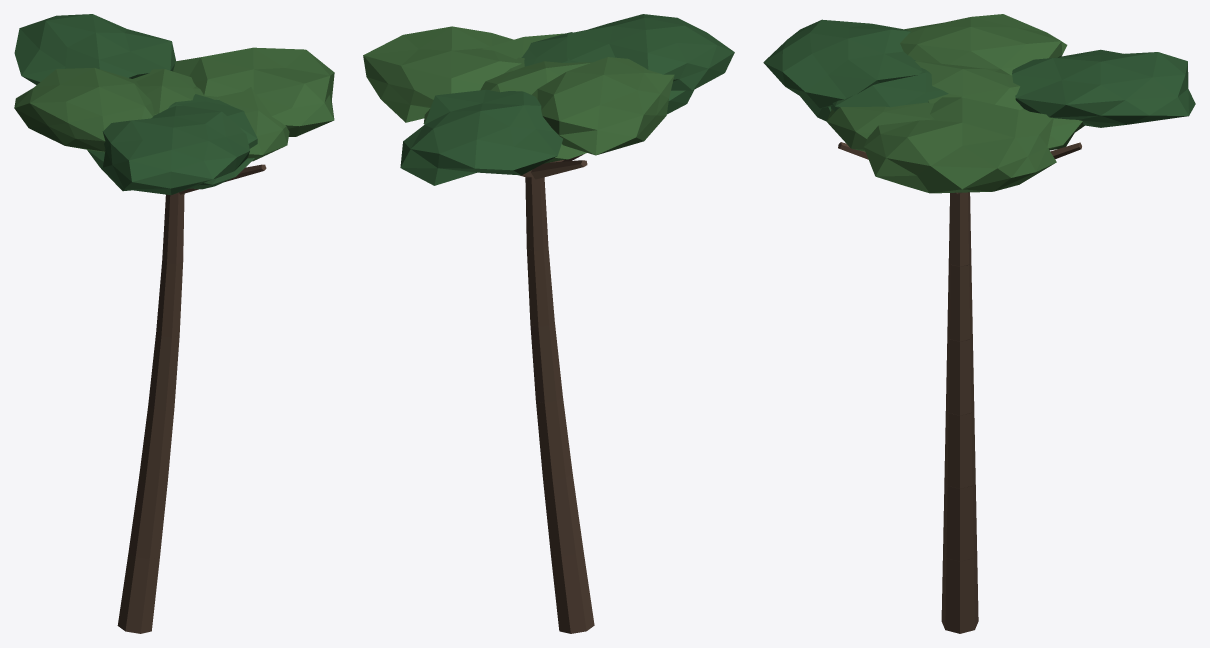
File: DV_Tree_StonePine.obj
The picture shows the model from 3 angles, left to right: view 1: azimuth 30°, elevation 25°; view 2: azimuth 150°, elevation 25°; view 3: azimuth 270°, elevation 25°; orthographic projection. The views are drawn at different scales.
Visible parts, largest first — view 1: canopy_7, canopy_0, canopy_1, canopy_8, trunk_0, trunk_1, trunk_2, canopy_6, trunk_3, canopy_4, trunk_4, trunk_5 (+2 smaller); view 2: canopy_1, canopy_8, canopy_0, canopy_7, trunk_0, trunk_1, trunk_2, trunk_3, canopy_4, trunk_4, trunk_5, canopy_3 (+2 smaller); view 3: canopy_0, canopy_1, canopy_7, canopy_8, canopy_4, trunk_0, canopy_6, trunk_1, canopy_3, trunk_2, trunk_3, trunk_4 (+2 smaller).
Boxes of the visible parts, x1,y1,x2,y2 form: canopy_7: [102, 105, 249, 195]; canopy_0: [173, 47, 334, 136]; canopy_1: [14, 14, 175, 84]; canopy_8: [14, 67, 154, 152]; trunk_0: [117, 552, 159, 633]; trunk_1: [128, 479, 167, 559]; trunk_2: [139, 405, 174, 484]; canopy_6: [218, 87, 289, 161]; trunk_3: [148, 332, 179, 410]; canopy_4: [132, 69, 219, 114]; trunk_4: [156, 260, 182, 337]; trunk_5: [162, 193, 184, 263]; canopy_1: [400, 89, 562, 185]; canopy_8: [532, 57, 674, 155]; canopy_0: [363, 26, 521, 122]; canopy_7: [566, 14, 734, 90]; trunk_0: [551, 549, 594, 633]; trunk_1: [543, 473, 583, 556]; trunk_2: [536, 397, 572, 479]; trunk_3: [530, 321, 562, 402]; canopy_4: [480, 57, 591, 94]; trunk_4: [527, 246, 554, 326]; trunk_5: [525, 177, 548, 250]; canopy_3: [521, 32, 579, 66]; canopy_0: [863, 97, 1056, 193]; canopy_1: [1012, 49, 1195, 127]; canopy_7: [763, 19, 922, 108]; canopy_8: [900, 14, 1067, 75]; canopy_4: [915, 60, 1023, 109]; trunk_0: [941, 550, 978, 633]; canopy_6: [826, 102, 933, 151]; trunk_1: [943, 479, 976, 561]; canopy_3: [830, 60, 948, 111]; trunk_2: [944, 407, 975, 488]; trunk_3: [946, 334, 974, 415]; trunk_4: [947, 260, 972, 341].
Size of the model in its own units: 14.11 by 25.44 by 17.11.
